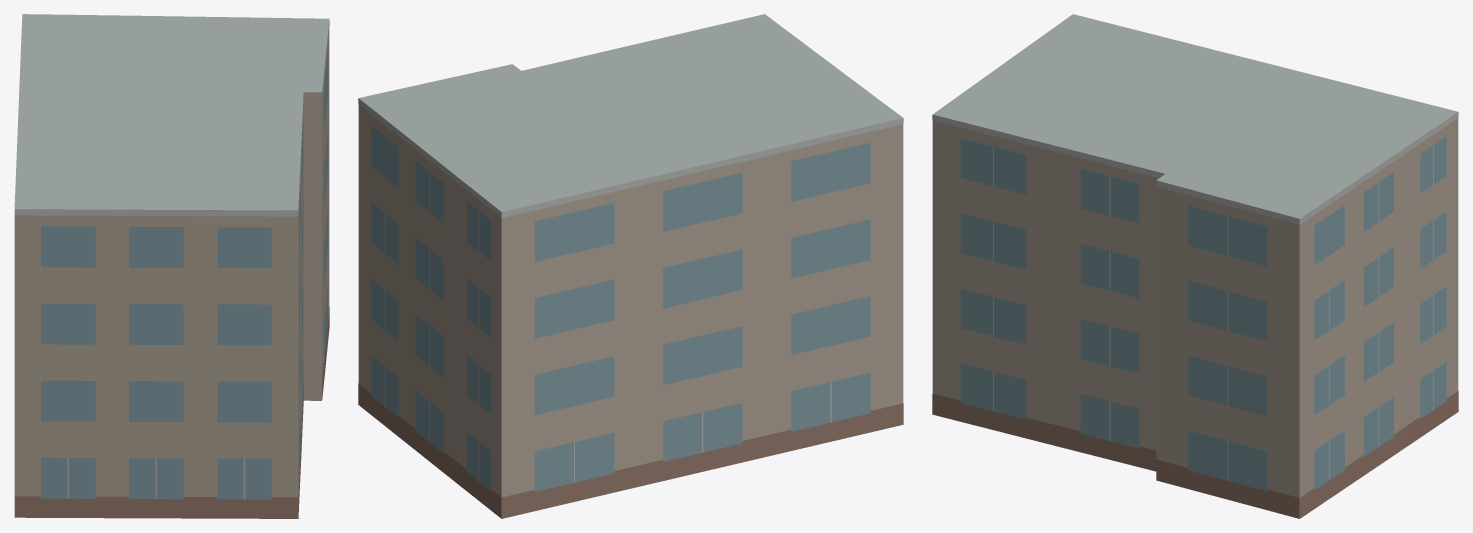
The model's file is survey-upis-32605043.glb.
The picture shows the model from 3 angles, left to right: view 1: azimuth 30°, elevation 25°; view 2: azimuth 150°, elevation 25°; view 3: azimuth 270°, elevation 25°; orthographic projection. The views are drawn at different scales.
Parts seen in each view (by area): view 1: survey-upis-32605043.tmp; view 2: survey-upis-32605043.tmp; view 3: survey-upis-32605043.tmp.
Boxes of the visible parts, x1,y1,x2,y2 form: survey-upis-32605043.tmp: (14,14,329,518); survey-upis-32605043.tmp: (358,14,903,518); survey-upis-32605043.tmp: (932,14,1458,518).
Bounding box in the file's own units: 17.87 × 12.2 × 19.39.
